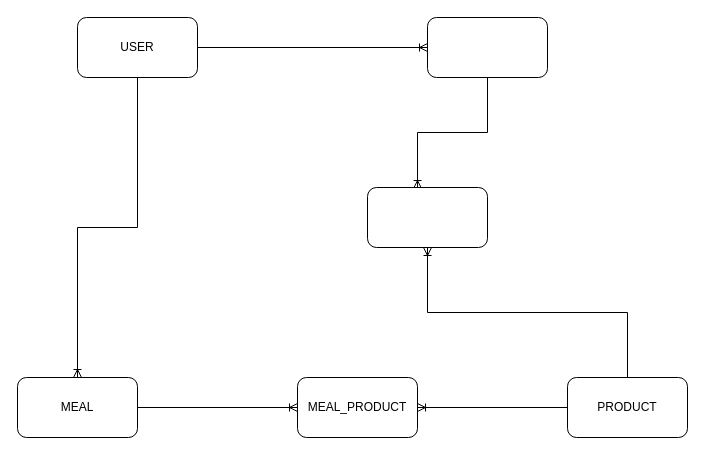
Some shapes in this 705 by 455 pixel diagram are drawn without their labels. Each missing label, with the centre of its shape:
DIARY: (x=487, y=47)
DIARY_PRODUCT: (x=427, y=217)
